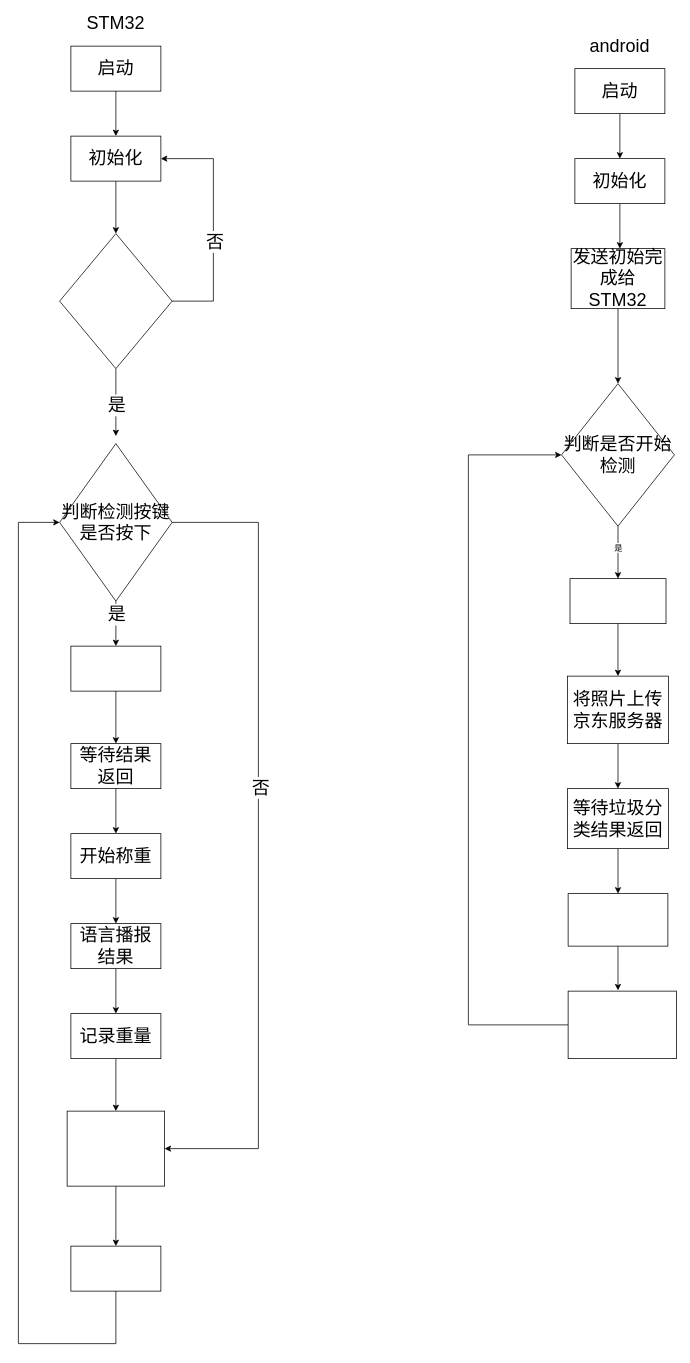
This 690x1363 diagram has some shape labels left out. The centre of each missing label's shape, as x and y in pixels:
"判断android是否初始化完成" goes at (x=115, y=301).
"发送检测指令" goes at (x=115, y=668).
"屏幕显示" goes at (x=115, y=1268).
"摄像头拍照" goes at (x=617, y=601).
"温度和容量测量" goes at (x=115, y=1148).
"解析返回结果" goes at (x=617, y=919).
"通过串口发送结果到STM32" goes at (x=621, y=1024).
